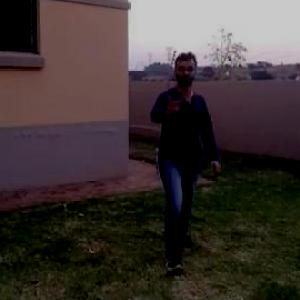takeoff-hand: (158, 89, 189, 122)
